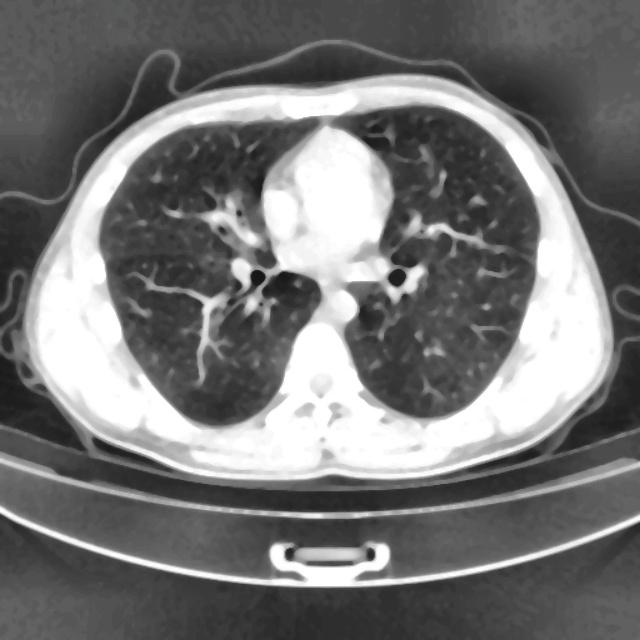covid: (13, 56, 616, 486)
